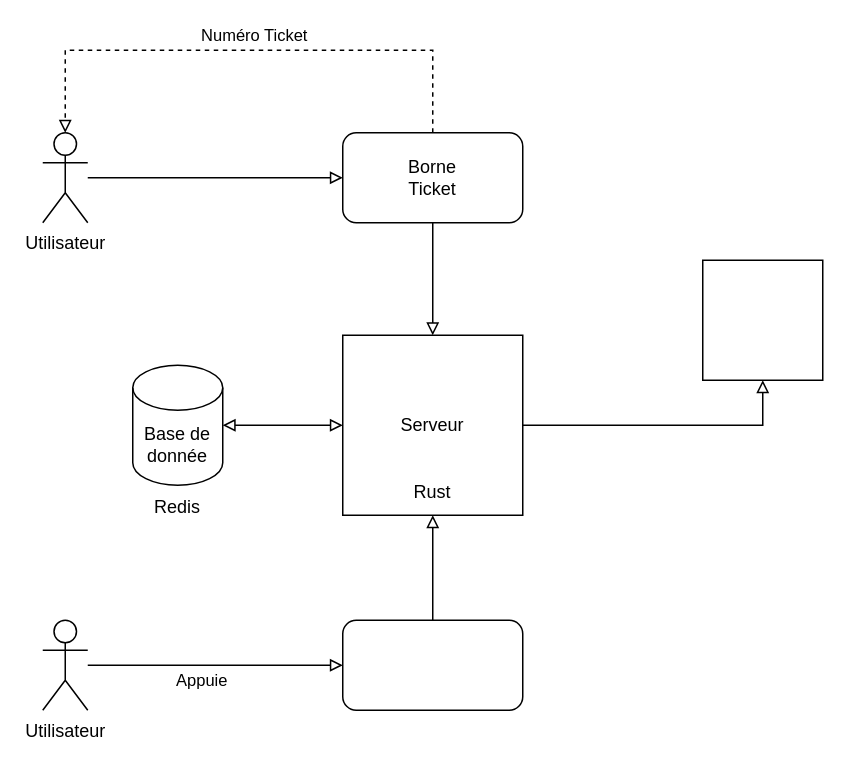
This 849x768 diagram has some shape labels left out. The shapes that lost their labels are listed below. From the top down, each one's box as (x1, y1, x2, y2) in pixels, then its label:
(701, 259, 823, 380): Affichage Ecran
(341, 619, 523, 710): Bouton Disponibilité
